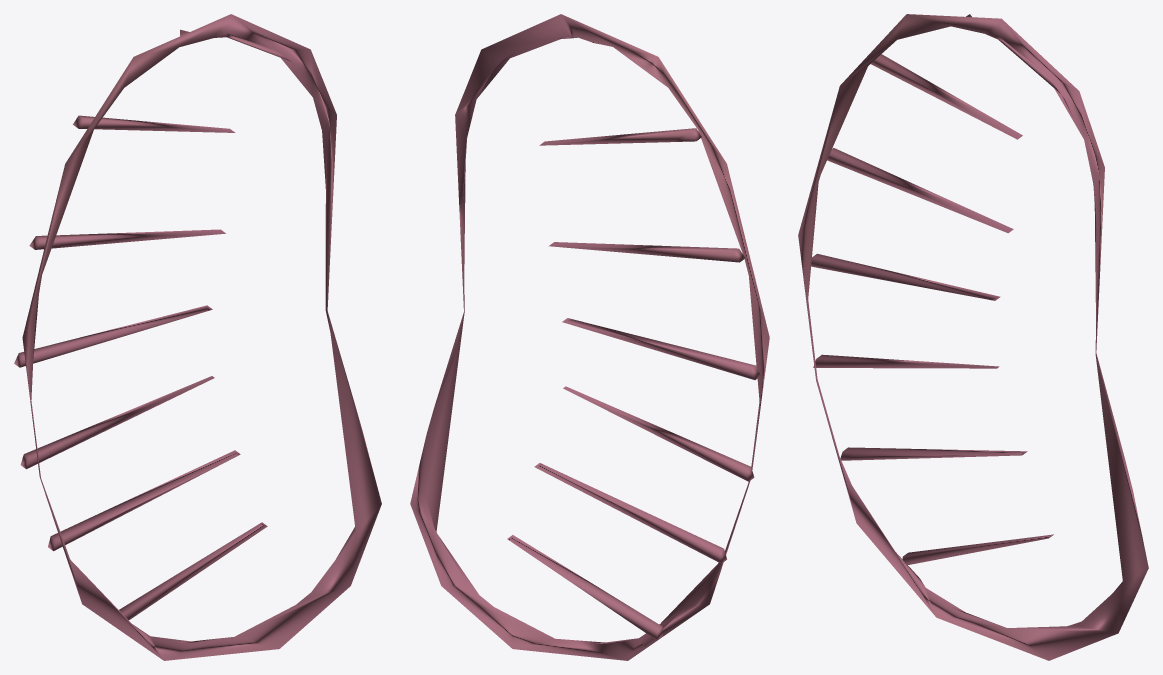
3 views of the same model, side by side, from view 1: azimuth 30°, elevation 25°; view 2: azimuth 150°, elevation 25°; view 3: azimuth 330°, elevation 25° (orthographic). The views are drawn at different scales.
Visible parts, largest first — view 1: LOD 5_16192670299155889494_a1e5460f9667e624384844bb77a670e0; view 2: LOD 5_16192670299155889494_a1e5460f9667e624384844bb77a670e0; view 3: LOD 5_16192670299155889494_a1e5460f9667e624384844bb77a670e0.
Part boxes in pixels (x1,y1,x2,y2): LOD 5_16192670299155889494_a1e5460f9667e624384844bb77a670e0: (14, 14, 381, 660); LOD 5_16192670299155889494_a1e5460f9667e624384844bb77a670e0: (410, 14, 769, 660); LOD 5_16192670299155889494_a1e5460f9667e624384844bb77a670e0: (798, 14, 1148, 660).
Size of the model in its own units: 4.04 by 6.95 by 0.2311.
